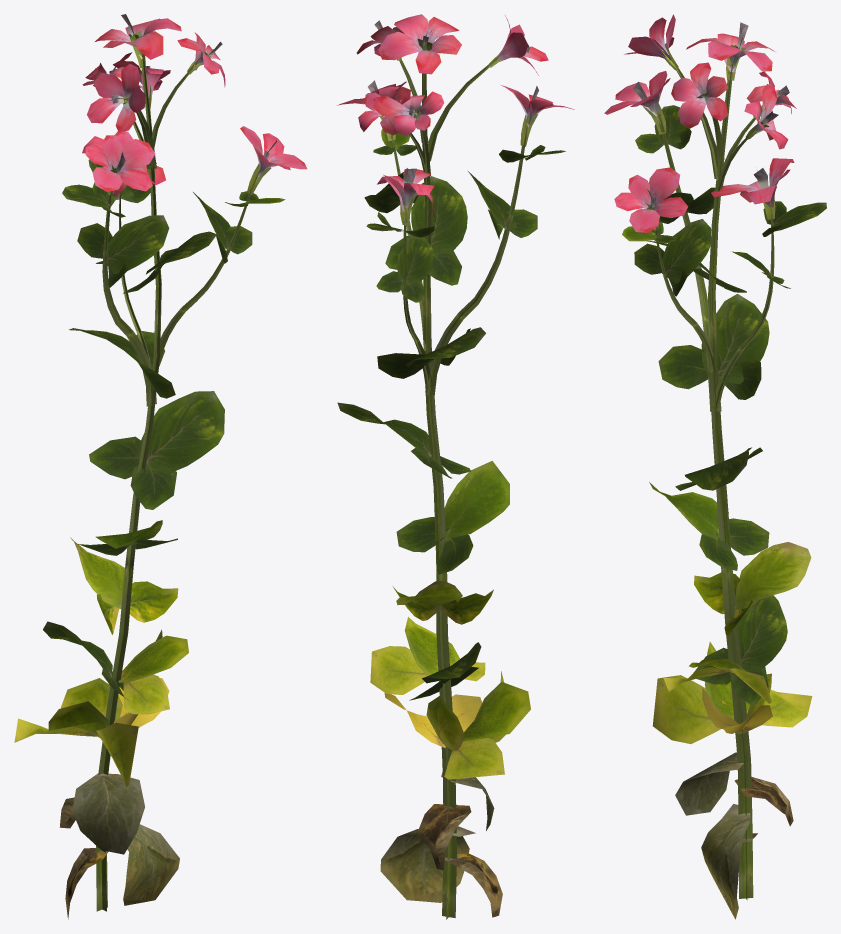
Rendered from Periwinkle_bush_normal_red.glb.
3 renders of one model, left to right at view 1: azimuth 30°, elevation 25°; view 2: azimuth 150°, elevation 25°; view 3: azimuth 270°, elevation 25°, orthographic.
Parts seen in each view (by area): view 1: _b868_Var1_LOD1; view 2: _b868_Var1_LOD1; view 3: _b868_Var1_LOD1.
Part boxes in pixels (left/top/right/bottom): _b868_Var1_LOD1: left=14, top=14, right=307, bottom=919; _b868_Var1_LOD1: left=337, top=14, right=574, bottom=919; _b868_Var1_LOD1: left=604, top=14, right=826, bottom=919.
Bounding box in the file's own units: 0.7589 × 2.81 × 0.6398.
1 material, 1 textured.
